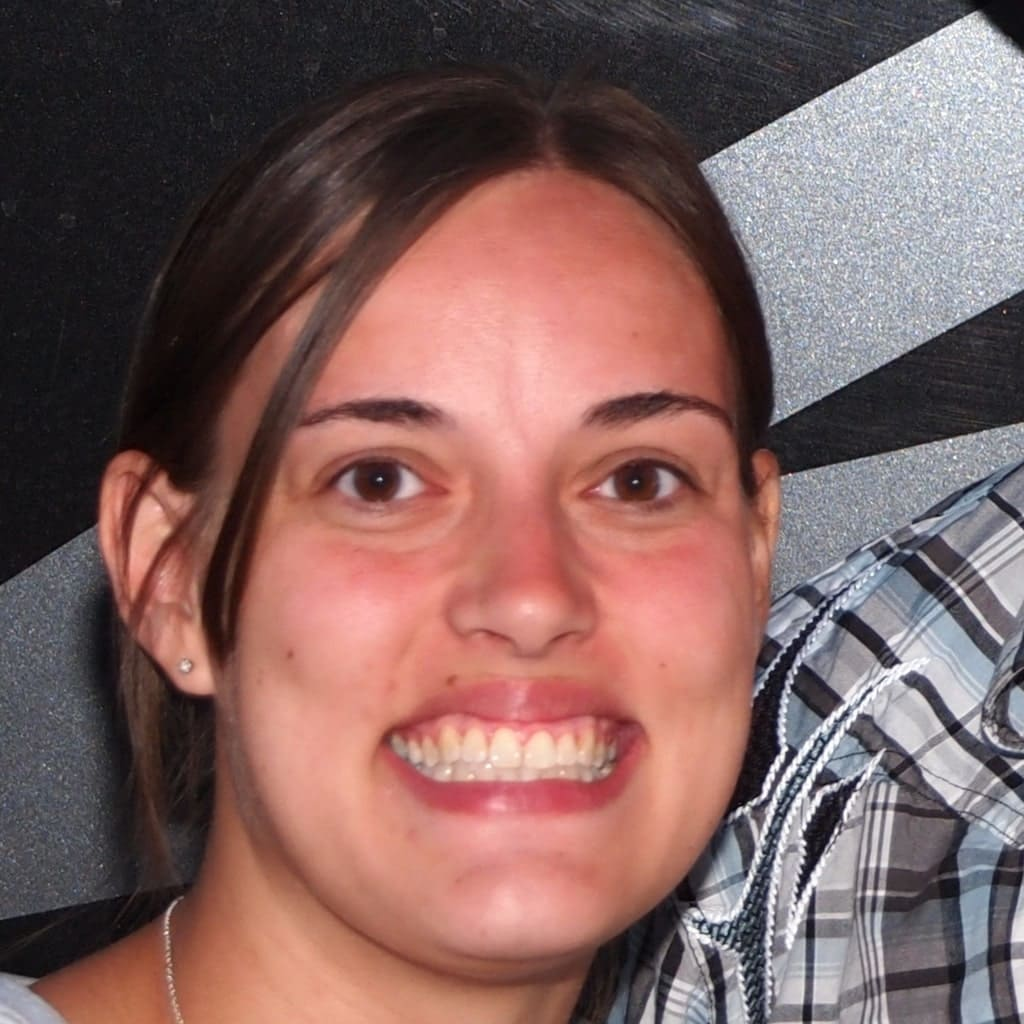without_mask: (280, 245, 748, 910)
